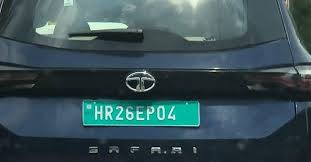number_plate: (75, 93, 211, 136)
